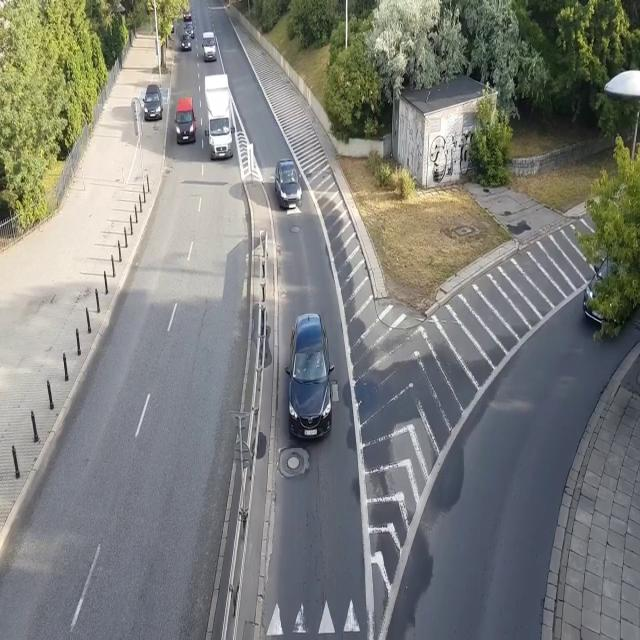car: (284, 312, 335, 442), (582, 237, 640, 331), (273, 158, 303, 208), (142, 83, 163, 121), (180, 33, 192, 52), (183, 21, 195, 39), (183, 7, 192, 22)
truck: (203, 73, 235, 160)
van: (174, 96, 196, 145), (202, 31, 217, 62)
